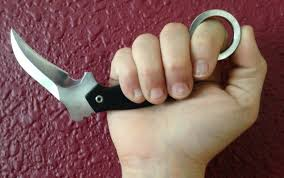knife: (6, 6, 268, 123)
